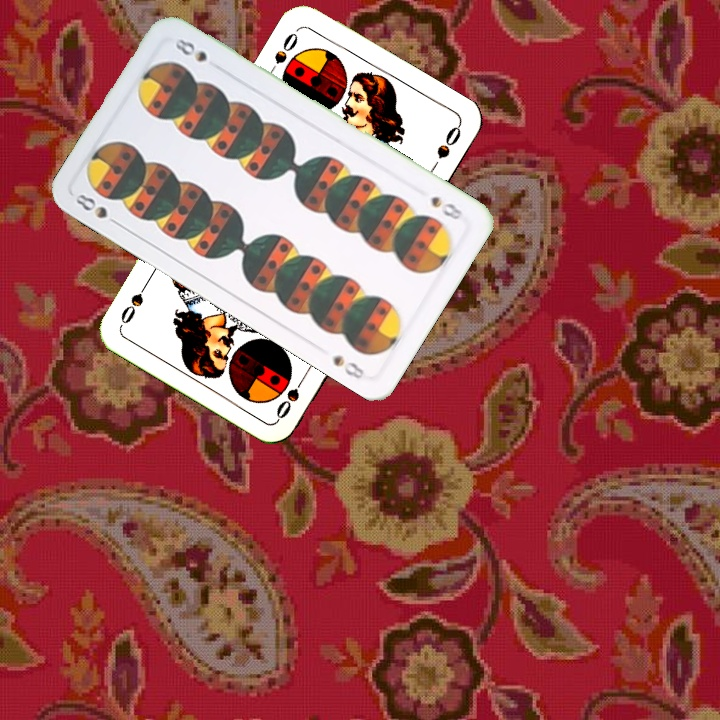S8: (71, 190, 124, 230), (426, 192, 470, 222)
SO: (272, 368, 310, 422), (270, 25, 302, 67)
